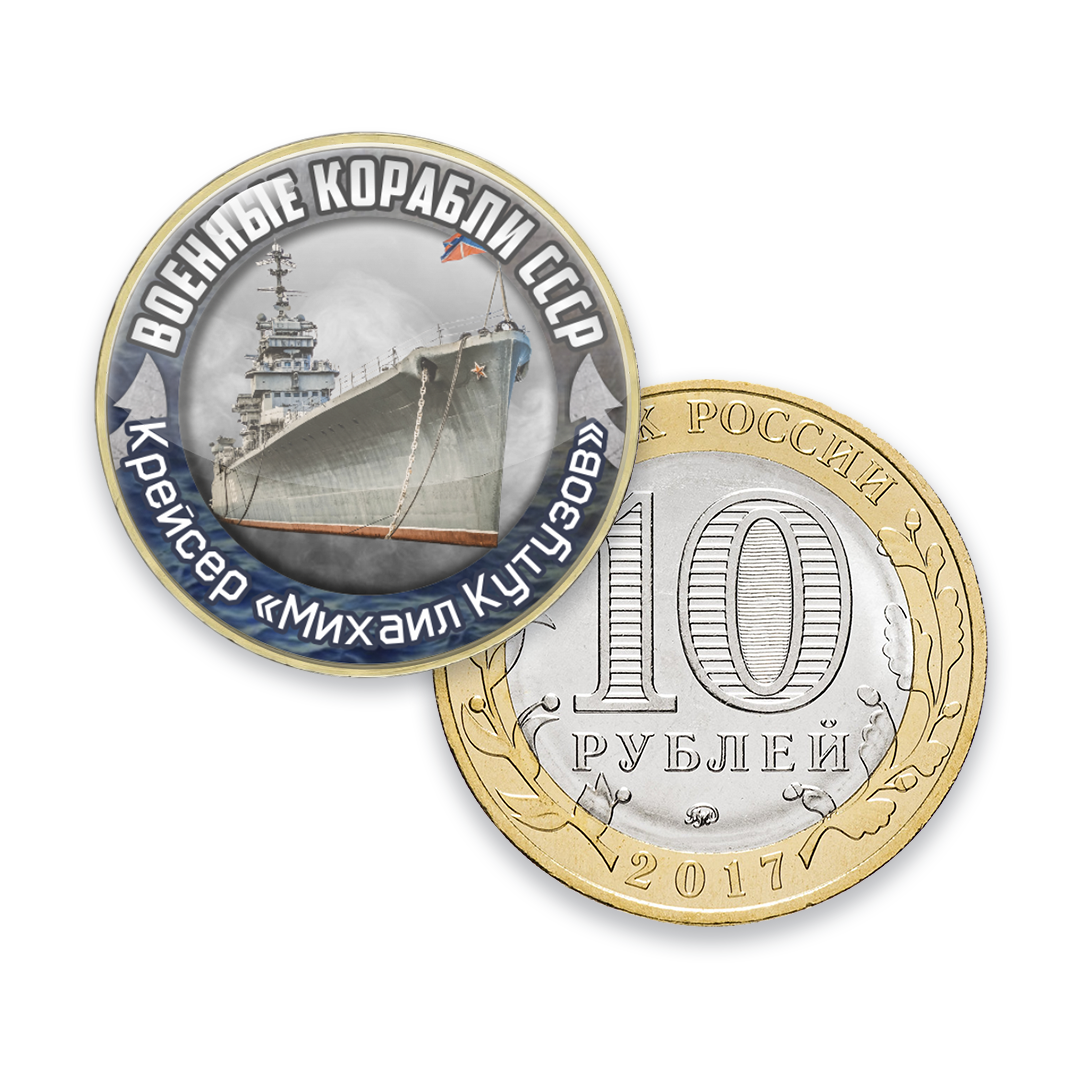coin: (433, 378, 992, 926), (92, 129, 641, 680)
